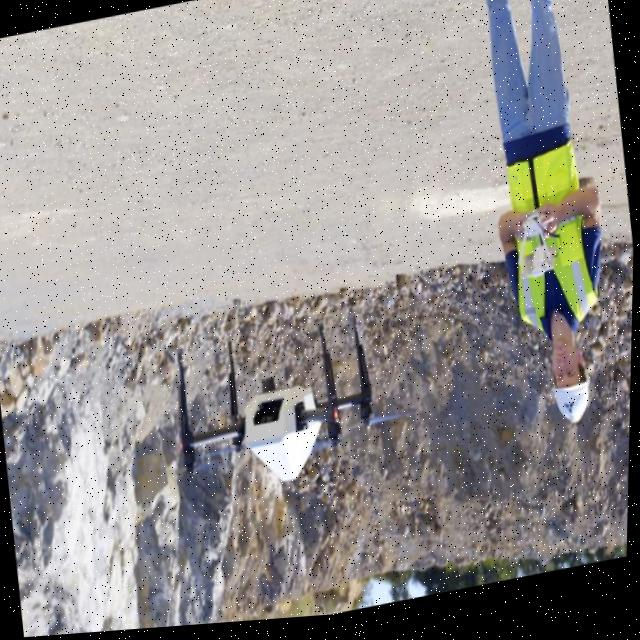drones: (145, 287, 417, 531)
